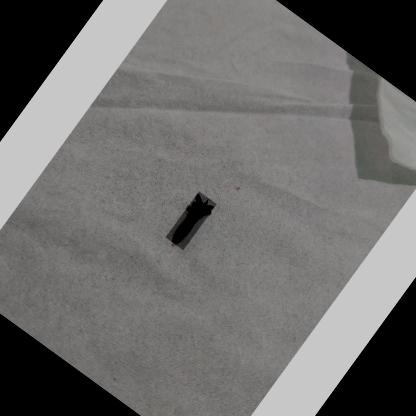buruk: (172, 195, 213, 244)
